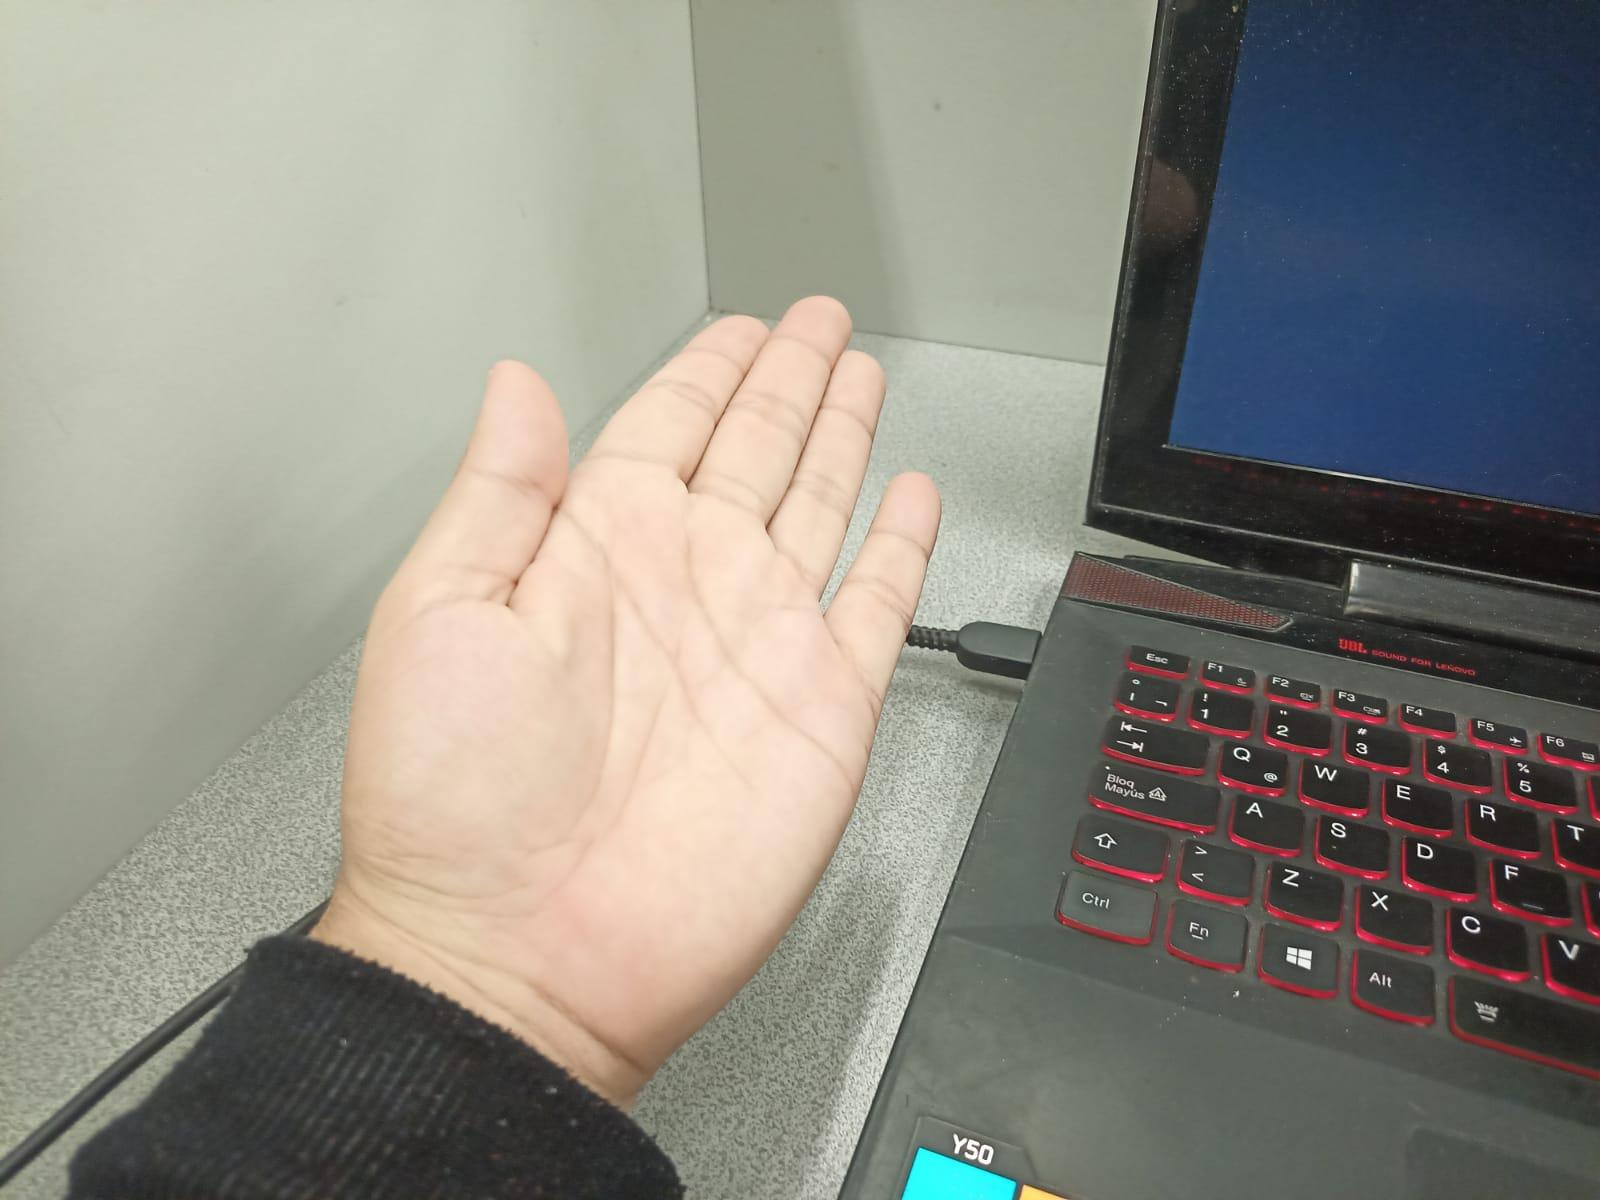Paper: (333, 281, 1031, 1046)
